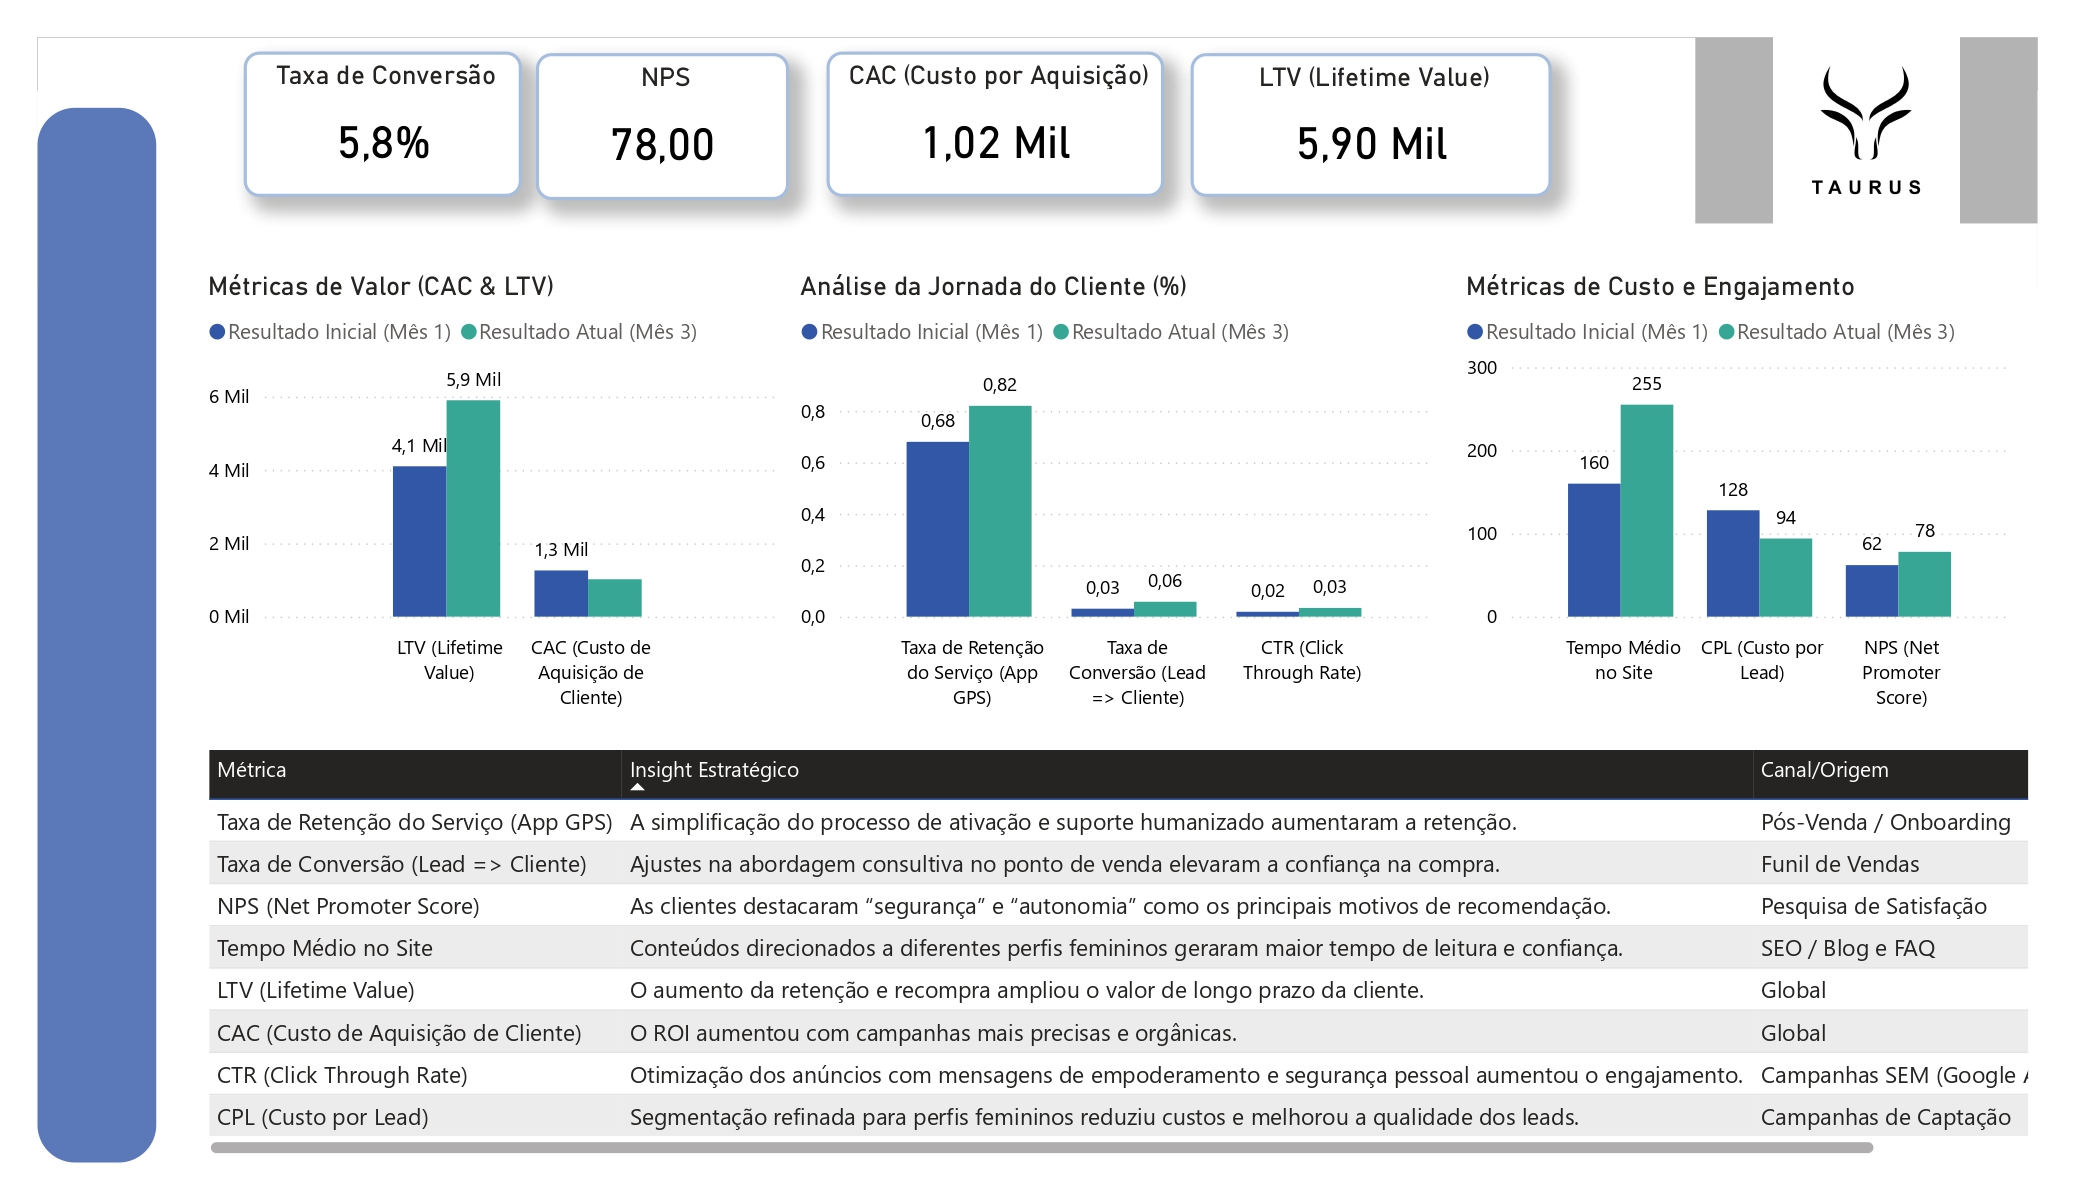

This screenshot's page, from the dashboard's own definition file:
{"tool":"powerbi","page":{"name":"Tabela de Resultados","canvas":[1280,720],"ordinal":2},"visuals":[{"type":"card","title":"Taxa de Conversão","fields":{"Values":["Planilha1.KPI_Taxa_Conversao"]},"box":[131.4,8.6,187.1,95.7],"z":0},{"type":"card","title":"NPS","fields":{"Values":["Sum(Planilha1.Resultado Atual (Mês 3))"]},"box":[330,10,162.9,94.3],"z":1000},{"type":"card","title":"CAC (Custo por Aquisição)","fields":{"Values":["Sum(Planilha1.Resultado Atual (Mês 3))"]},"box":[504.9,8.8,216.6,93.7],"z":2000},{"type":"card","title":"LTV (Lifetime Value)","fields":{"Values":["Sum(Planilha1.Resultado Atual (Mês 3))"]},"box":[744.3,10,231.4,92.9],"z":3000},{"type":"clusteredColumnChart","title":"Métricas de Valor (CAC & LTV)","fields":{"Category":["Planilha1.Métrica"],"Y":["Sum(Planilha1.Resultado Inicial (Mês 1))","Sum(Planilha1.Resultado Atual (Mês 3))"]},"box":[90,140,372.9,288.6],"z":4000},{"type":"tableEx","fields":{"Values":["Planilha1.Métrica","Planilha1.Insight Estratégico","Planilha1.Canal/Origem"]},"box":[90,438.6,1188.6,281.4],"z":5000},{"type":"clusteredColumnChart","title":"Análise da Jornada do Cliente (%)","fields":{"Category":["Planilha1.Métrica"],"Y":["Sum(Planilha1.Resultado Inicial (Mês 1))","Sum(Planilha1.Resultado Atual (Mês 3))"]},"box":[482.9,140,390,288.6],"z":6000},{"type":"clusteredColumnChart","title":"Métricas de Custo e Engajamento","fields":{"Category":["Planilha1.Métrica"],"Y":["Sum(Planilha1.Resultado Inicial (Mês 1))","Sum(Planilha1.Resultado Atual (Mês 3))"]},"box":[894.3,140,332.9,288.6],"z":7000},{"type":"shape","box":[0,55.7,80,664.3],"z":8000},{"type":"image","box":[1.5,213.7,80.5,70.2],"z":9000},{"type":"image","box":[11.7,297.1,54.1,74.6],"z":10000},{"type":"image","box":[979,0,300,115.6],"z":11000}]}

Visuals, with their boxes on the page's 1280x720 design canvas (x1, y1, x2, y2). These are canvas units, not pixel positions in the 2075x1200 screenshot, which may show the page scaled, cropped or inside an application window:
"Taxa de Conversão" card: [131, 9, 318, 104]
"NPS" card: [330, 10, 493, 104]
"CAC (Custo por Aquisição)" card: [505, 9, 722, 102]
"LTV (Lifetime Value)" card: [744, 10, 976, 103]
"Métricas de Valor (CAC & LTV)" clusteredColumnChart: [90, 140, 463, 429]
tableEx - Planilha1.Métrica x Planilha1.Insight Estratégico: [90, 439, 1279, 720]
"Análise da Jornada do Cliente (%)" clusteredColumnChart: [483, 140, 873, 429]
"Métricas de Custo e Engajamento" clusteredColumnChart: [894, 140, 1227, 429]
shape: [0, 56, 80, 720]
image: [2, 214, 82, 284]
image: [12, 297, 66, 372]
image: [979, 0, 1279, 116]
